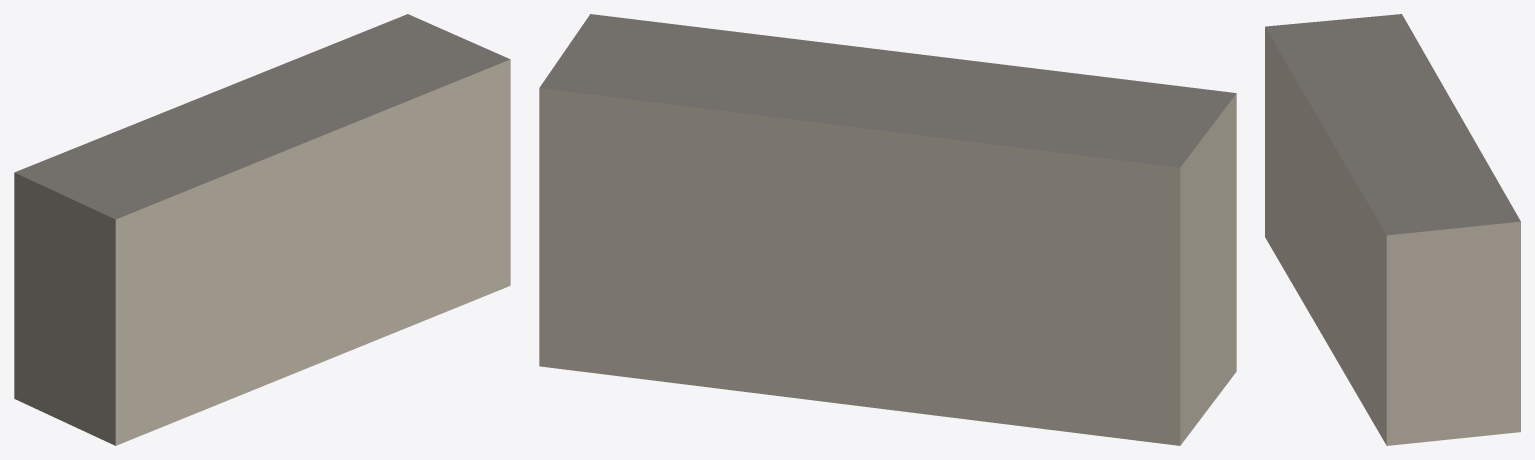
The picture shows the model from 3 angles, left to right: view 1: azimuth 30°, elevation 25°; view 2: azimuth 150°, elevation 25°; view 3: azimuth 270°, elevation 25°; orthographic projection. The views are drawn at different scales.
Visible parts, largest first — view 1: HP-w702173489; view 2: HP-w702173489; view 3: HP-w702173489.
Boxes of the visible parts, x1=… form: HP-w702173489: x1=14, y1=14, x2=510, y2=445; HP-w702173489: x1=539, y1=14, x2=1236, y2=445; HP-w702173489: x1=1265, y1=14, x2=1520, y2=445.
Size of the model in its own units: 40.61 by 18 by 19.84.
